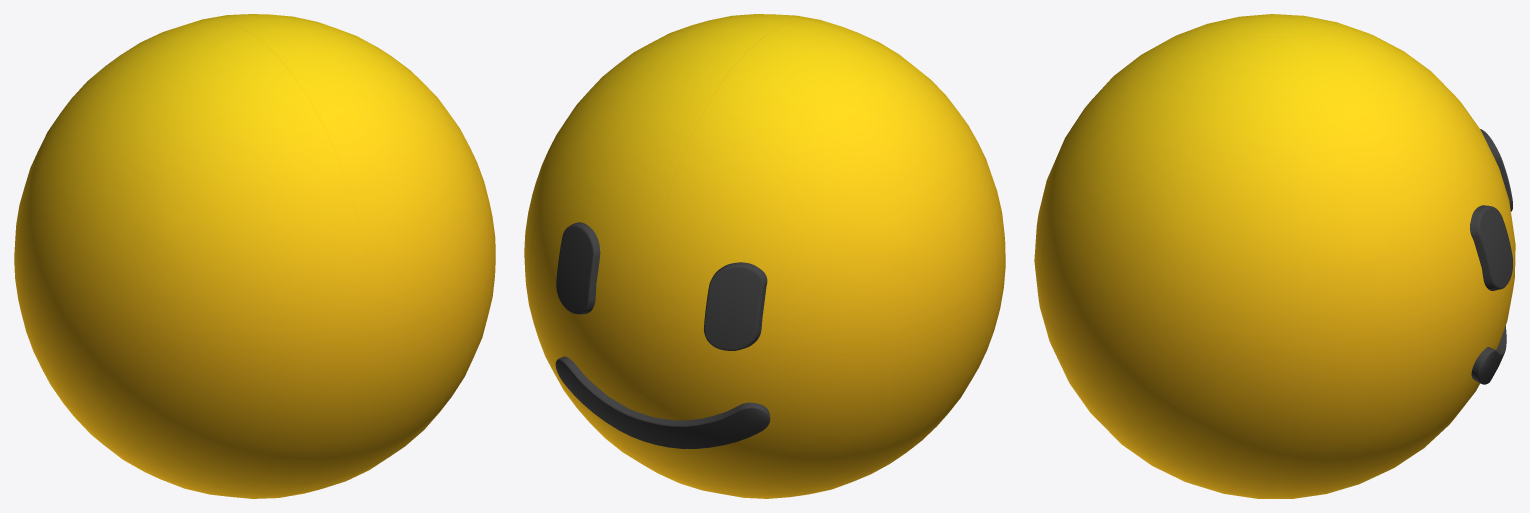
File: SmilingFace.glb
3 views of the same model, side by side, from view 1: azimuth 30°, elevation 25°; view 2: azimuth 150°, elevation 25°; view 3: azimuth 270°, elevation 25° (orthographic).
Parts seen in each view (by area): view 1: SmilingFace; view 2: SmilingFace; view 3: SmilingFace.
Boxes of the visible parts, x1,y1,x2,y2 form: SmilingFace: (14, 14, 495, 498); SmilingFace: (524, 14, 1005, 498); SmilingFace: (1034, 14, 1515, 498).
Size of the model in its own units: 1.62 by 1.64 by 1.62.
Materials: 1 (1 with a texture image).
